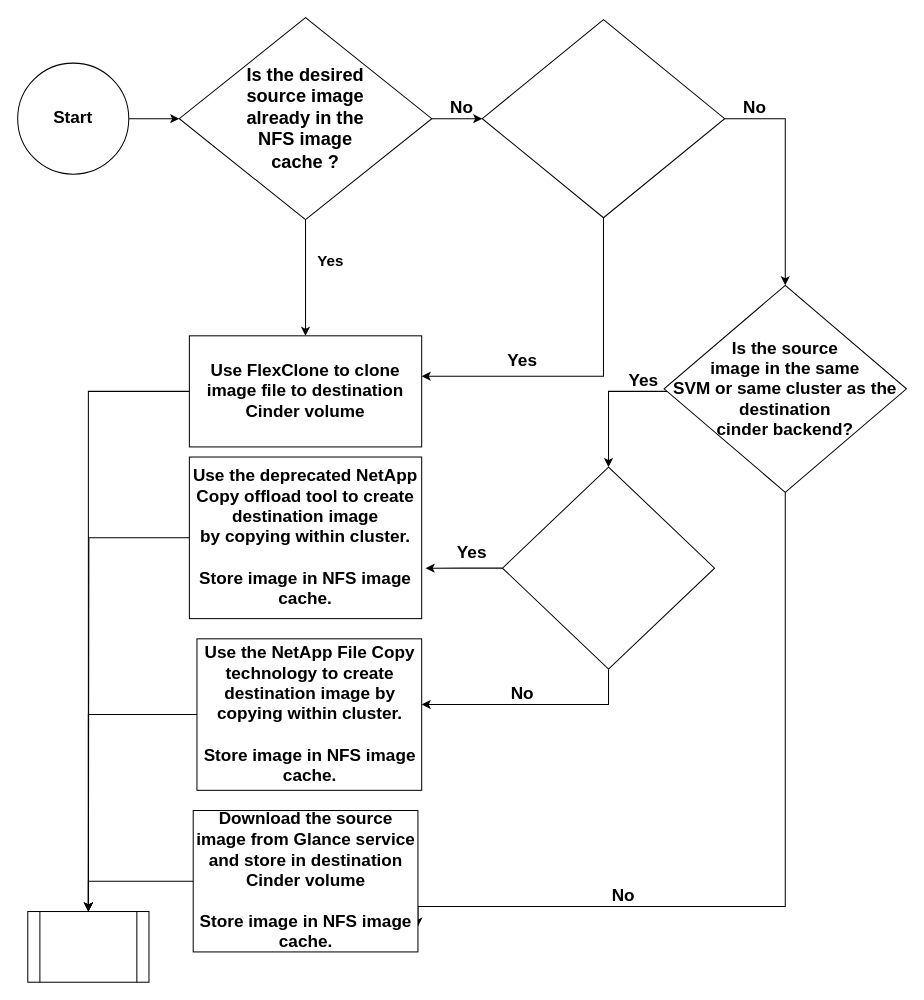
Some shapes in this 924 by 1000 pixel diagram are drawn without their labels. The centre of each missing label's shape, as x and y in pixels:
End: the point at 88,946
Is Glance using NFS export from same FlexVol as Cinder backend?: the point at 603,118
Is the deprecated NetApp Copy offload tool correctly configured ?: the point at 608,567
